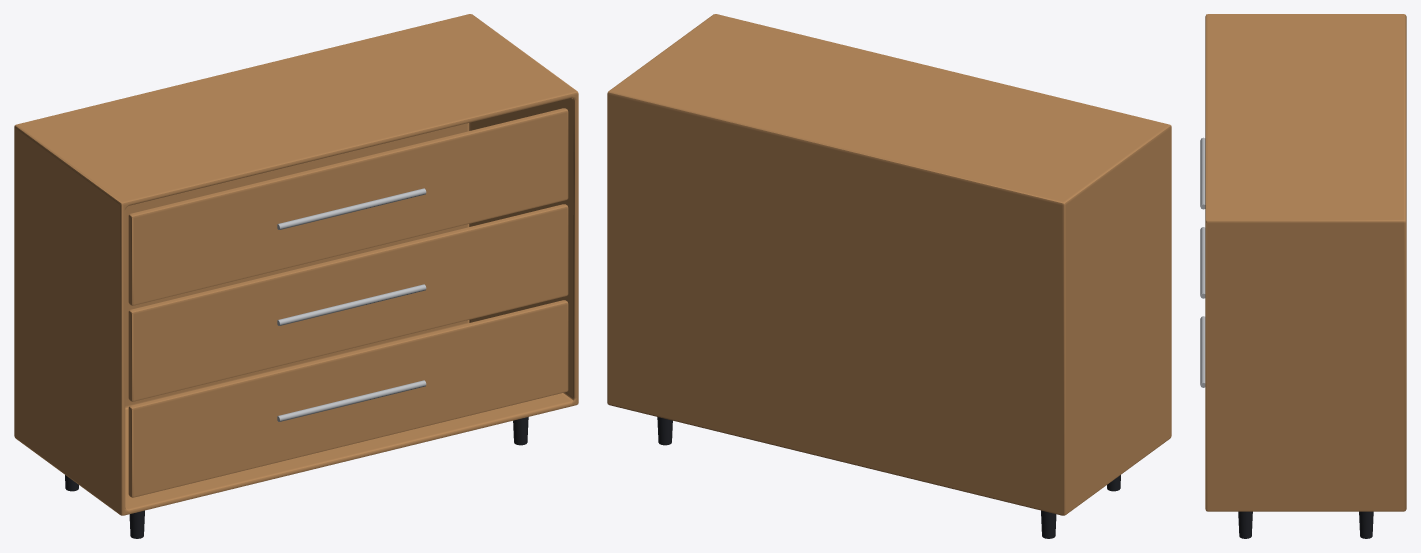
Rendered from dresser.glb.
3 renders of one model, left to right at view 1: azimuth 30°, elevation 25°; view 2: azimuth 150°, elevation 25°; view 3: azimuth 270°, elevation 25°, orthographic. The views are drawn at different scales.
Parts seen in each view (by area): view 1: dresser; view 2: dresser; view 3: dresser.
Part boxes in pixels (<box>): dresser: <box>14,14,578,538</box>; dresser: <box>607,14,1171,538</box>; dresser: <box>1200,14,1406,538</box>.
Bounding box in the file's own units: 1.1 × 0.82 × 0.461.
